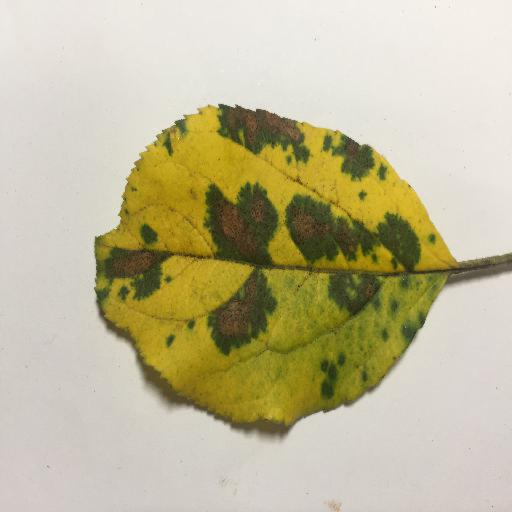Brown_Spot: (296, 196, 373, 257), (210, 108, 304, 152), (210, 196, 269, 257), (214, 277, 264, 338), (112, 249, 151, 274), (334, 137, 366, 161), (364, 281, 380, 302)
